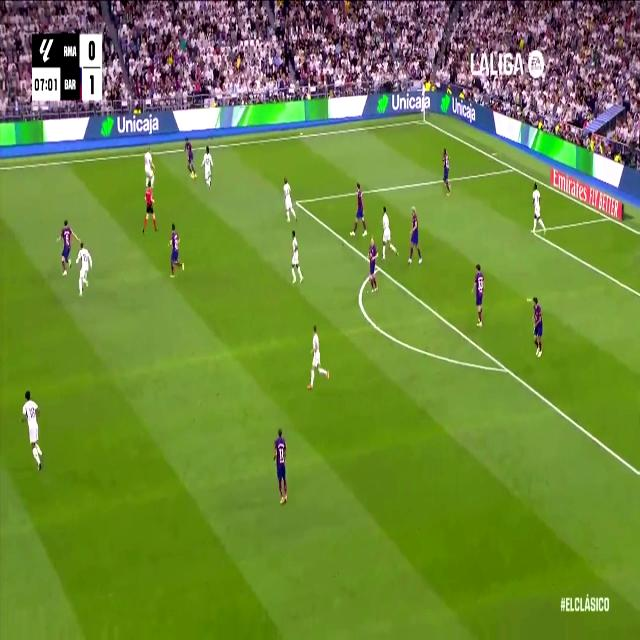bigarea_top_inner: (293, 192, 300, 210)
bigarea_top_outter: (510, 160, 518, 174)
bottom_arc_area_intersection: (500, 357, 512, 381)
corner: (418, 113, 428, 126)
smallarea_top_inner: (529, 222, 537, 238)
top_arc_area_intersection: (375, 260, 382, 274)
